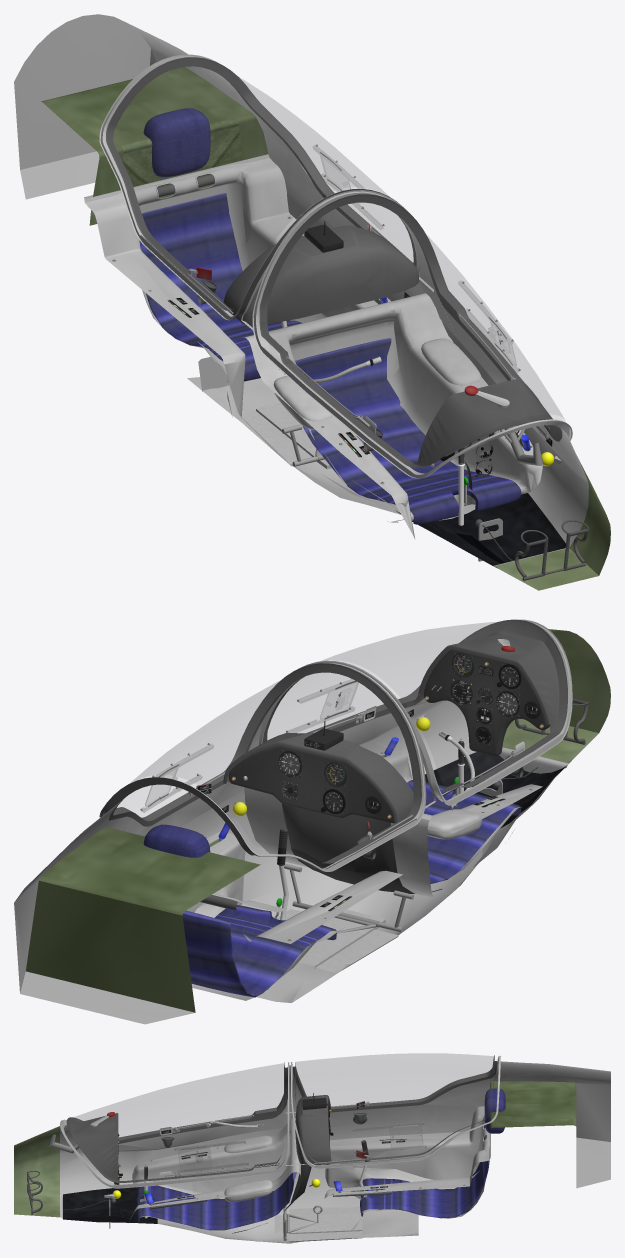
File: interior.gltf
3 renders of one model, top to bottom at view 1: azimuth 30°, elevation 25°; view 2: azimuth 150°, elevation 25°; view 3: azimuth 270°, elevation 25°, orthographic. The views are drawn at different scales.
Parts seen in each view (by area): view 1: Interior; view 2: Interior; view 3: Interior.
Boxes of the visible parts, box(x1,y1,x2,y2) form: Interior: box(14, 14, 610, 590); Interior: box(14, 619, 610, 1024); Interior: box(14, 1053, 610, 1243).
Size of the model in its own units: 0.6951 by 1.01 by 3.03.
Materials: 30 (21 with a texture image).
